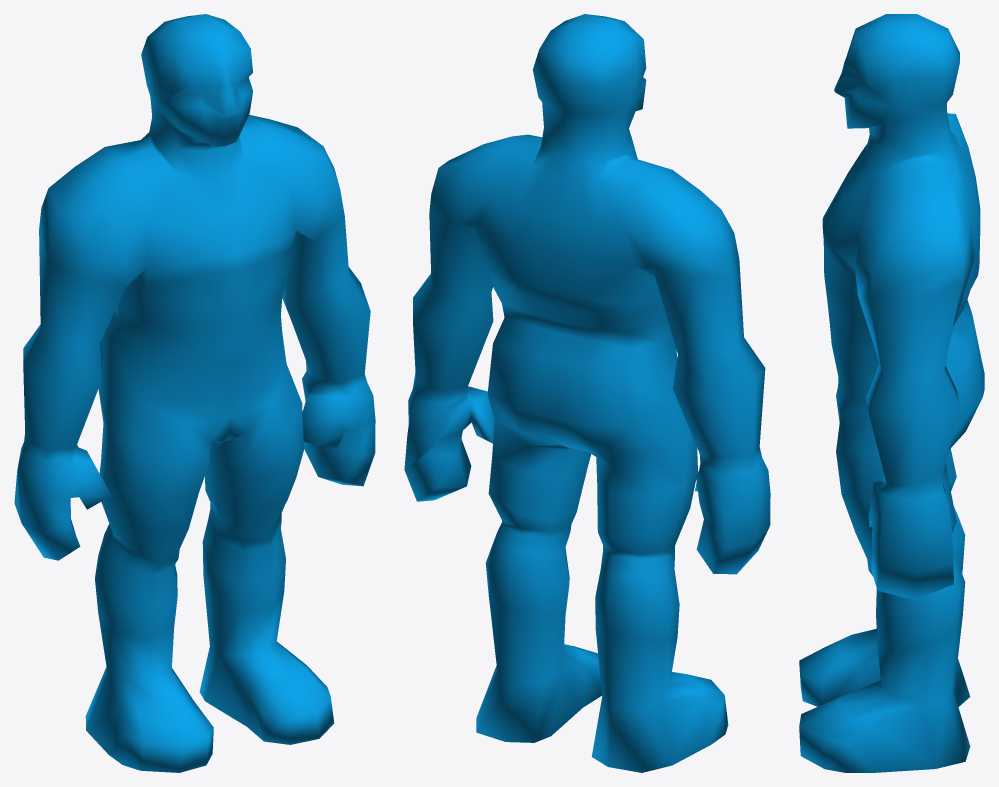
The model's file is player_blu.fbx.
The picture shows the model from 3 angles, left to right: view 1: azimuth 30°, elevation 25°; view 2: azimuth 150°, elevation 25°; view 3: azimuth 270°, elevation 25°; orthographic projection.
Visible parts, largest first — view 1: Advanced1; view 2: Advanced1; view 3: Advanced1.
Boxes of the visible parts, x1,y1,x2,y2 form: Advanced1: (14,14,375,772); Advanced1: (404,14,770,772); Advanced1: (799,14,984,772).
Bounding box in the file's own units: 5 × 9.64 × 2.31.
